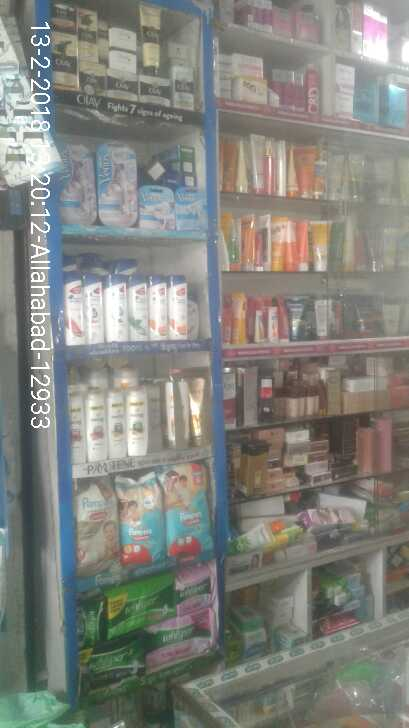venus: (97, 145, 134, 223), (62, 145, 93, 225), (138, 187, 174, 229), (174, 188, 205, 229)
